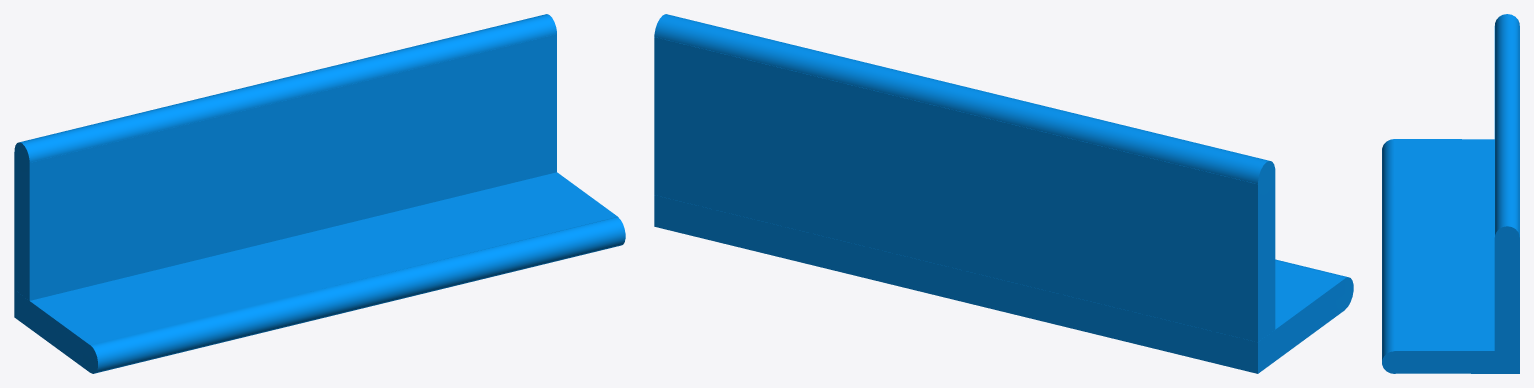
The model's file is ghe.fbx.
3 renders of one model, left to right at view 1: azimuth 30°, elevation 25°; view 2: azimuth 150°, elevation 25°; view 3: azimuth 270°, elevation 25°, orthographic. The views are drawn at different scales.
Parts seen in each view (by area): view 1: VBox001, VBox002, VCyl002, VCyl001; view 2: VBox001, VBox002, VCyl001, VCyl002; view 3: VBox002, VCyl001, VBox001, VCyl002.
Part boxes in pixels (x1=…): VBox001: x1=14, y1=34, x2=556, y2=300; VBox002: x1=14, y1=172, x2=617, y2=372; VCyl002: x1=83, y1=217, x2=625, y2=373; VCyl001: x1=14, y1=14, x2=556, y2=171; VBox001: x1=654, y1=37, x2=1275, y2=342; VBox002: x1=654, y1=195, x2=1344, y2=373; VCyl001: x1=654, y1=14, x2=1275, y2=194; VCyl002: x1=1275, y1=259, x2=1353, y2=310; VBox002: x1=1394, y1=139, x2=1519, y2=373; VCyl001: x1=1495, y1=14, x2=1519, y2=237; VBox001: x1=1494, y1=26, x2=1519, y2=350; VCyl002: x1=1382, y1=139, x2=1406, y2=373.
Size of the model in its own units: 0.2 by 0.0652 by 0.0549.
